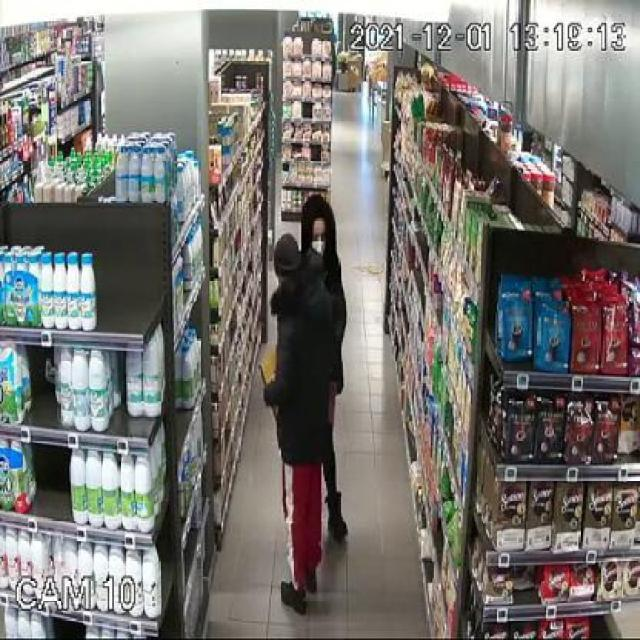Shoplifting: (229, 170, 417, 637)
